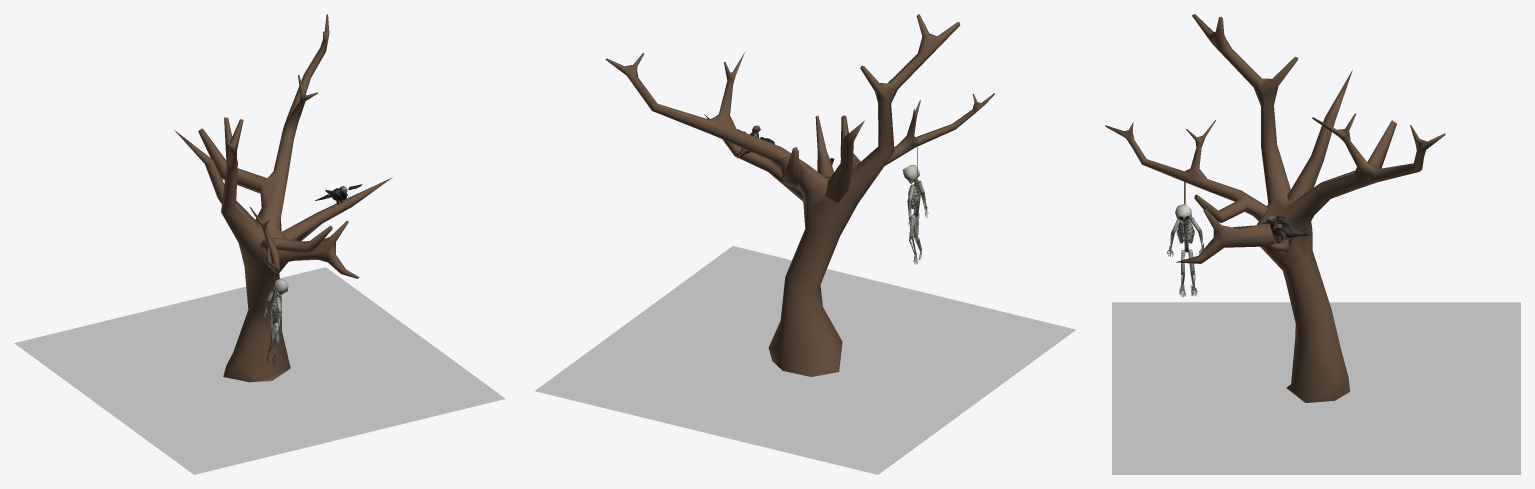
The model's file is PSX style tree.fbx.
The picture shows the model from 3 angles, left to right: view 1: azimuth 30°, elevation 25°; view 2: azimuth 150°, elevation 25°; view 3: azimuth 270°, elevation 25°; orthographic projection. The views are drawn at different scales.
Visible parts, largest first — view 1: ground, tree, Skeleton; view 2: ground, tree, Skeleton; view 3: ground, tree, Skeleton.
Part boxes in pixels (x1,y1,x2,y2): ground: [14, 267, 505, 474]; tree: [174, 14, 392, 382]; Skeleton: [264, 272, 288, 366]; ground: [535, 246, 1075, 474]; tree: [605, 14, 994, 376]; Skeleton: [902, 147, 928, 264]; ground: [1112, 302, 1520, 474]; tree: [1105, 14, 1445, 402]; Skeleton: [1166, 182, 1204, 297].
Bounding box in the file's own units: 906 × 828 × 921.
